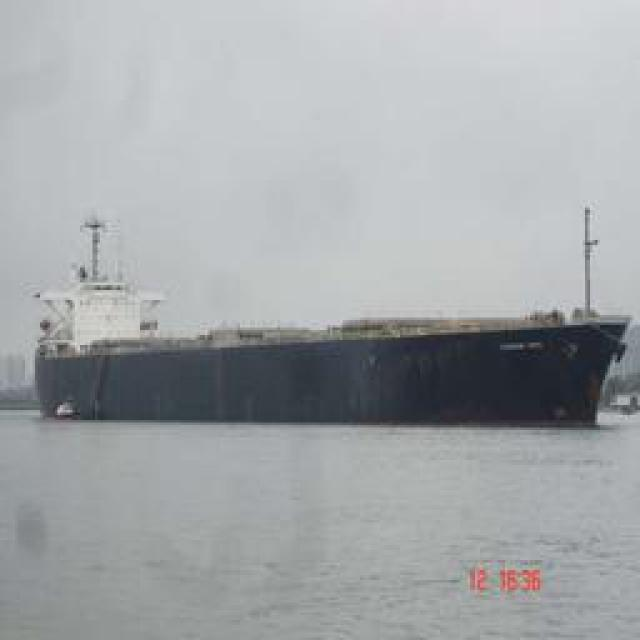Ship: (31, 211, 636, 440)
